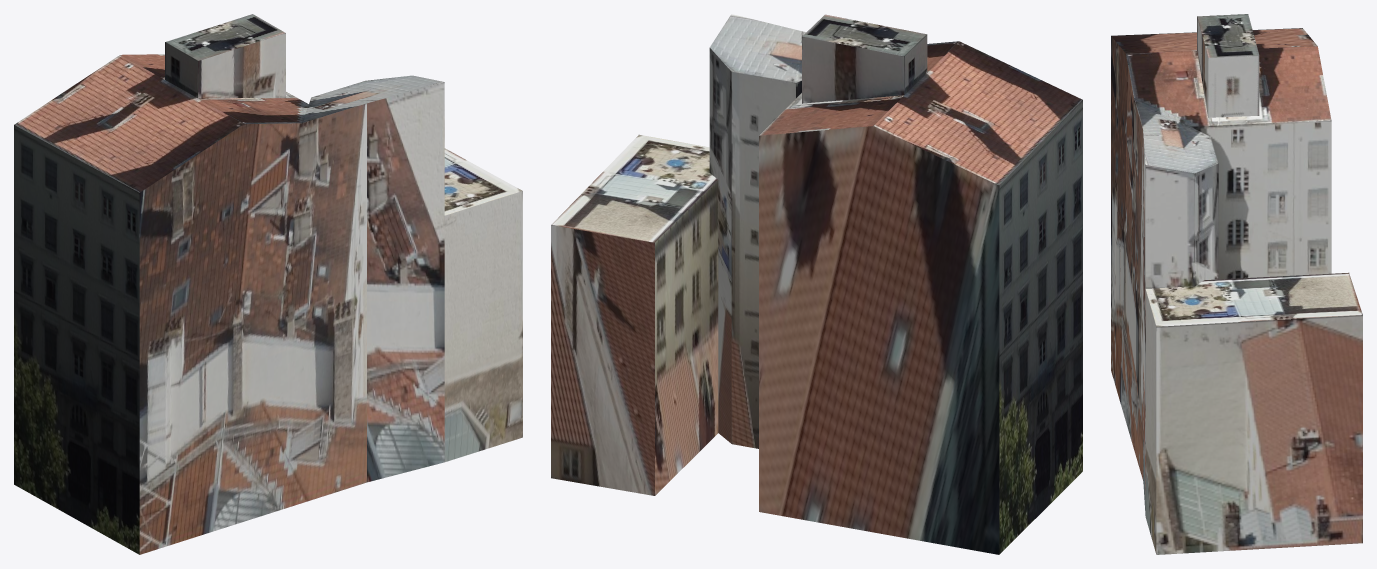
The picture shows the model from 3 angles, left to right: view 1: azimuth 30°, elevation 25°; view 2: azimuth 150°, elevation 25°; view 3: azimuth 270°, elevation 25°; orthographic projection. The views are drawn at different scales.
Visible parts, largest first — view 1: Z_UP; view 2: Z_UP; view 3: Z_UP.
Part boxes in pixels (x1,y1,x2,y2): Z_UP: [14, 14, 522, 554]; Z_UP: [551, 14, 1082, 554]; Z_UP: [1111, 14, 1362, 554].
Size of the model in its own units: 30.46 by 29.45 by 16.7.
Materials: 2 (1 with a texture image).
